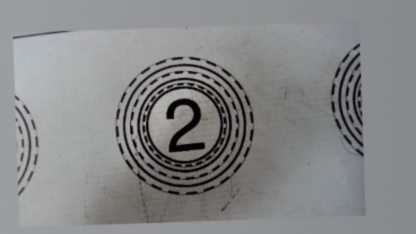2r: (111, 54, 258, 197)
